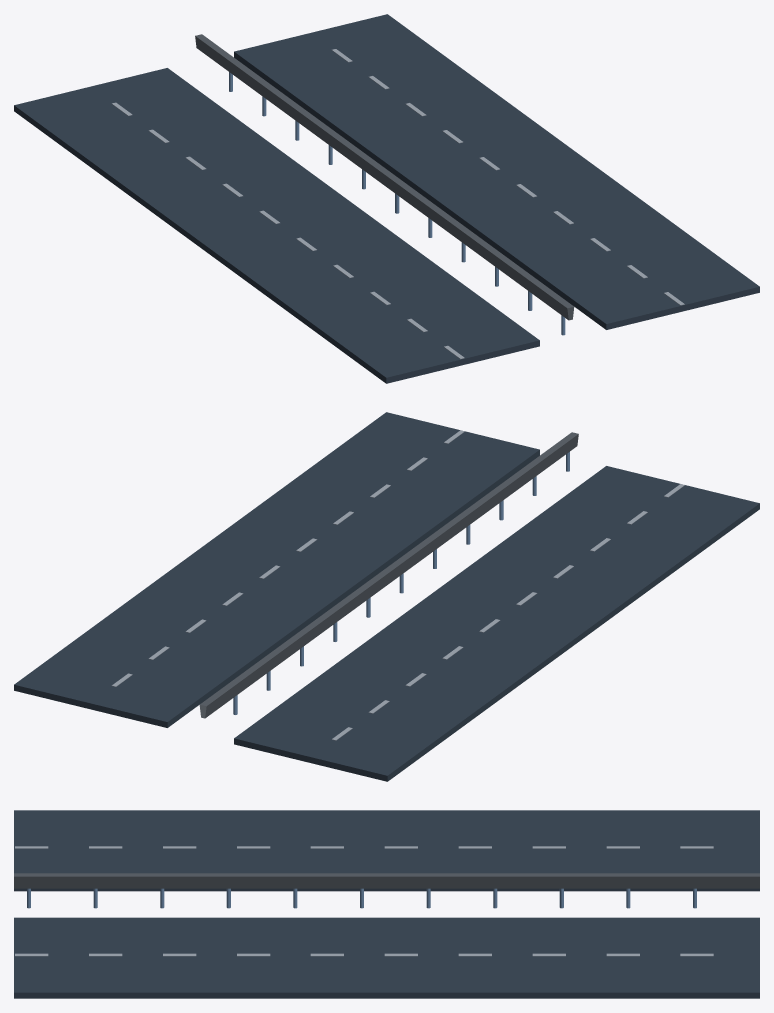
3 renders of one model, top to bottom at view 1: azimuth 30°, elevation 25°; view 2: azimuth 150°, elevation 25°; view 3: azimuth 270°, elevation 25°, orthographic.
Parts seen in each view (by area): view 1: Node; view 2: Node; view 3: Node.
Boxes of the visible parts, x1,y1,x2,y2 form: Node: [14, 14, 759, 383]; Node: [14, 412, 759, 781]; Node: [14, 810, 759, 998].
Bounding box in the file's own units: 649 × 53.91 × 1120.
Materials: 1 (1 with a texture image).
